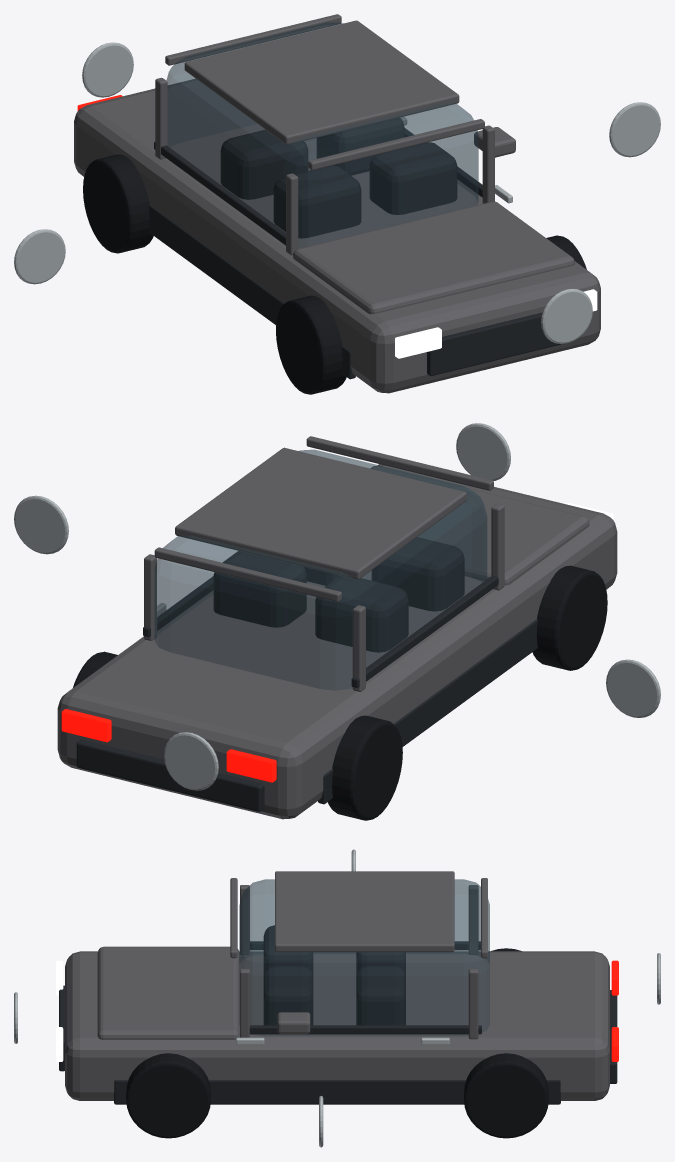
Rendered from suv-crossover.glb.
3 views of the same model, one above another, from view 1: azimuth 30°, elevation 25°; view 2: azimuth 150°, elevation 25°; view 3: azimuth 270°, elevation 25° (orthographic). The views are drawn at different scales.
Parts seen in each view (by area): view 1: BATCH_01_MAT_CarPaint_suv-crossover, BATCH_03_MAT_Glass, BATCH_00_MAT_BlackMetal, wheel_front_L.004, wheel_rear_L.004, hub_front_R.004, hub_rear_R.004, hub_front_L.004, hub_rear_L.004, BATCH_05_MAT_WhiteLight; view 2: BATCH_01_MAT_CarPaint_suv-crossover, BATCH_03_MAT_Glass, BATCH_00_MAT_BlackMetal, wheel_front_L.004, wheel_rear_L.004, hub_rear_L.004, hub_rear_R.004, hub_front_R.004, hub_front_L.004, BATCH_04_MAT_RedLight; view 3: BATCH_01_MAT_CarPaint_suv-crossover, BATCH_03_MAT_Glass, BATCH_00_MAT_BlackMetal, wheel_front_R.004, wheel_rear_R.004, BATCH_04_MAT_RedLight, BATCH_05_MAT_WhiteLight, BATCH_02_MAT_Chrome.
Boxes of the visible parts, bbox=[...] form: BATCH_01_MAT_CarPaint_suv-crossover: bbox=[74, 14, 600, 393]; BATCH_03_MAT_Glass: bbox=[166, 22, 478, 247]; BATCH_00_MAT_BlackMetal: bbox=[148, 118, 561, 379]; wheel_front_L.004: bbox=[276, 295, 346, 394]; wheel_rear_L.004: bbox=[83, 154, 153, 253]; hub_front_R.004: bbox=[609, 102, 660, 157]; hub_rear_R.004: bbox=[82, 42, 133, 97]; hub_front_L.004: bbox=[541, 289, 592, 343]; hub_rear_L.004: bbox=[14, 229, 65, 284]; BATCH_05_MAT_WhiteLight: bbox=[395, 289, 597, 358]; BATCH_01_MAT_CarPaint_suv-crossover: bbox=[57, 436, 617, 819]; BATCH_03_MAT_Glass: bbox=[154, 449, 487, 690]; BATCH_00_MAT_BlackMetal: bbox=[76, 537, 537, 811]; wheel_front_L.004: bbox=[532, 565, 607, 670]; wheel_rear_L.004: bbox=[328, 715, 402, 820]; hub_rear_L.004: bbox=[606, 659, 660, 717]; hub_rear_R.004: bbox=[164, 732, 218, 790]; hub_front_R.004: bbox=[14, 495, 68, 554]; hub_front_L.004: bbox=[456, 423, 510, 480]; BATCH_04_MAT_RedLight: bbox=[61, 709, 276, 782]; BATCH_01_MAT_CarPaint_suv-crossover: bbox=[65, 871, 609, 1100]; BATCH_03_MAT_Glass: bbox=[239, 879, 489, 1035]; BATCH_00_MAT_BlackMetal: bbox=[59, 925, 617, 1104]; wheel_front_R.004: bbox=[126, 1053, 210, 1138]; wheel_rear_R.004: bbox=[464, 1053, 548, 1138]; BATCH_04_MAT_RedLight: bbox=[611, 960, 618, 1061]; BATCH_05_MAT_WhiteLight: bbox=[56, 960, 63, 1061]; BATCH_02_MAT_Chrome: bbox=[236, 1037, 449, 1044].
Bounding box in the file's own units: 5.38 × 1.63 × 5.49.
